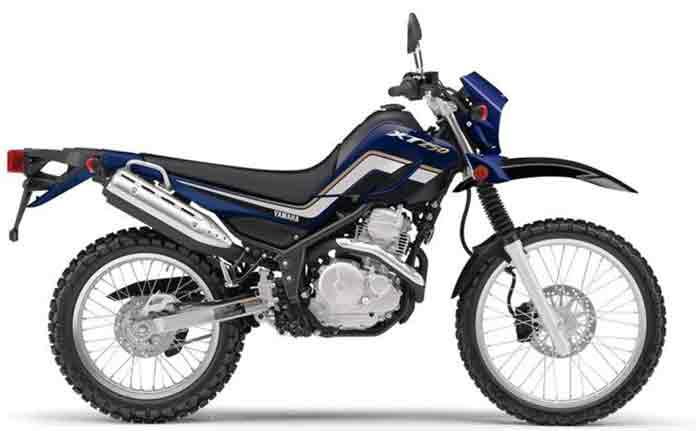motorcycle: (15, 60, 667, 422)
